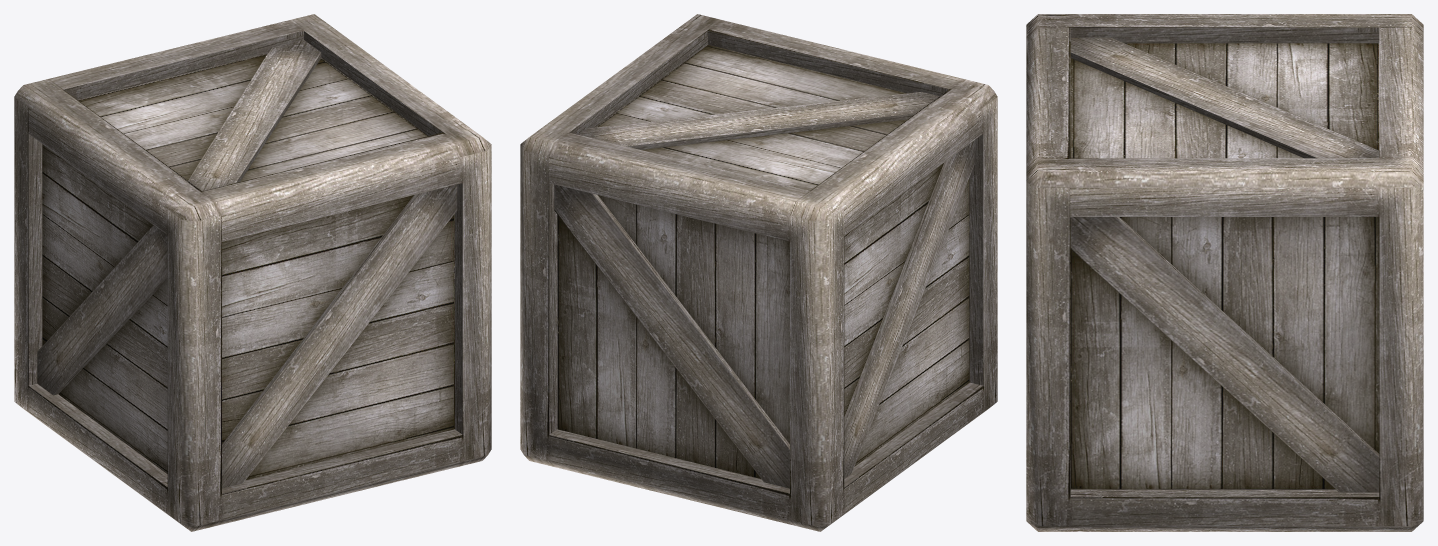
File: crate.FBX
The picture shows the model from 3 angles, left to right: view 1: azimuth 30°, elevation 25°; view 2: azimuth 150°, elevation 25°; view 3: azimuth 270°, elevation 25°; orthographic projection. The views are drawn at different scales.
Parts seen in each view (by area): view 1: crate; view 2: crate; view 3: crate.
Part boxes in pixels (x1,y1,x2,y2): crate: [14, 14, 491, 531]; crate: [520, 14, 997, 531]; crate: [1026, 14, 1423, 531].
Bounding box in the file's own units: 39.1 × 39.1 × 39.1.
